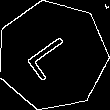L_NE: (23, 28, 82, 83)
